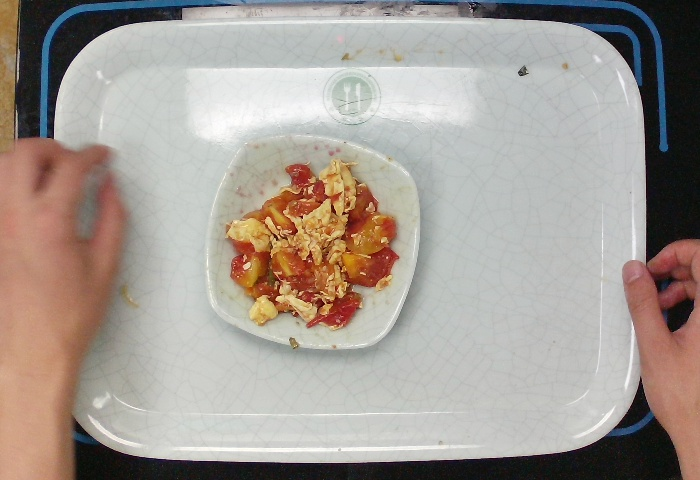WCQzf-Da_Si_Fang_Die: (202, 129, 424, 353)
